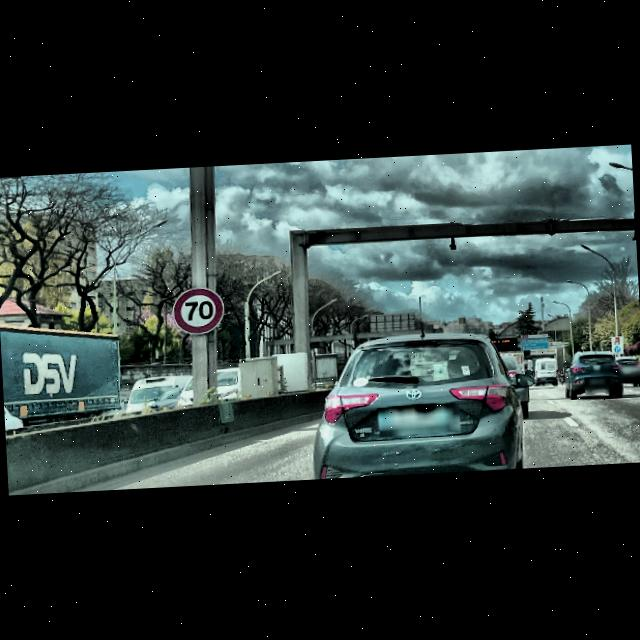speed_70: (172, 286, 226, 338)
